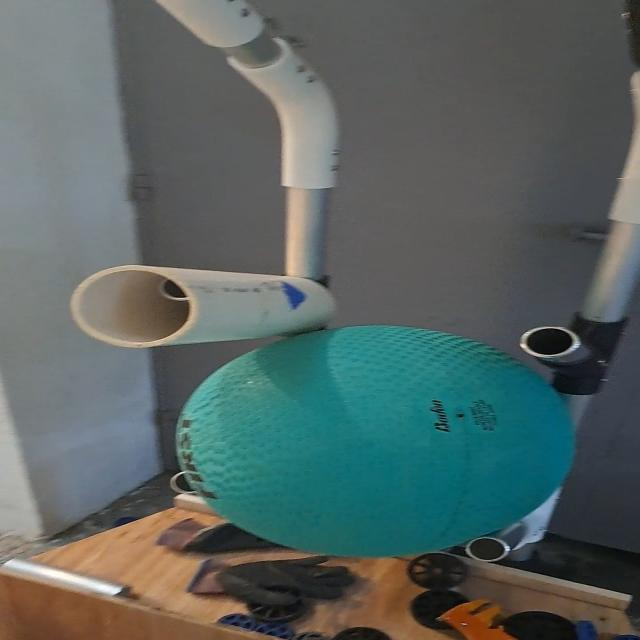ALGAE: (173, 322, 578, 558)
CORAL: (68, 263, 345, 352)
